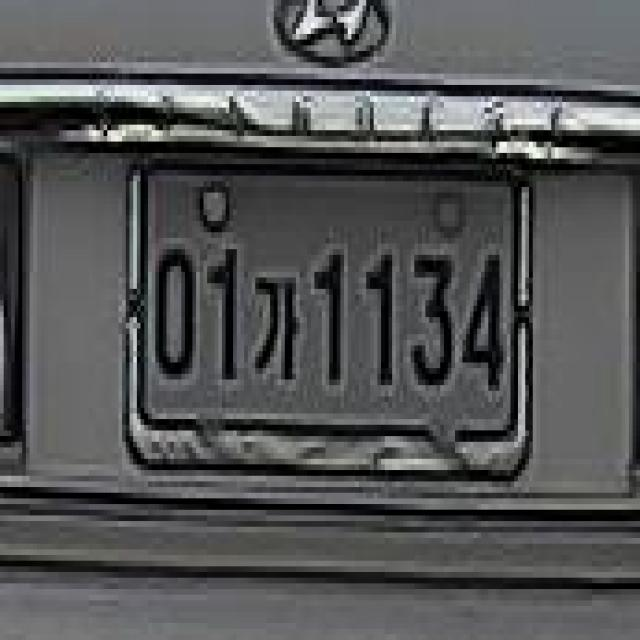illegal_plate: (123, 143, 540, 494)
